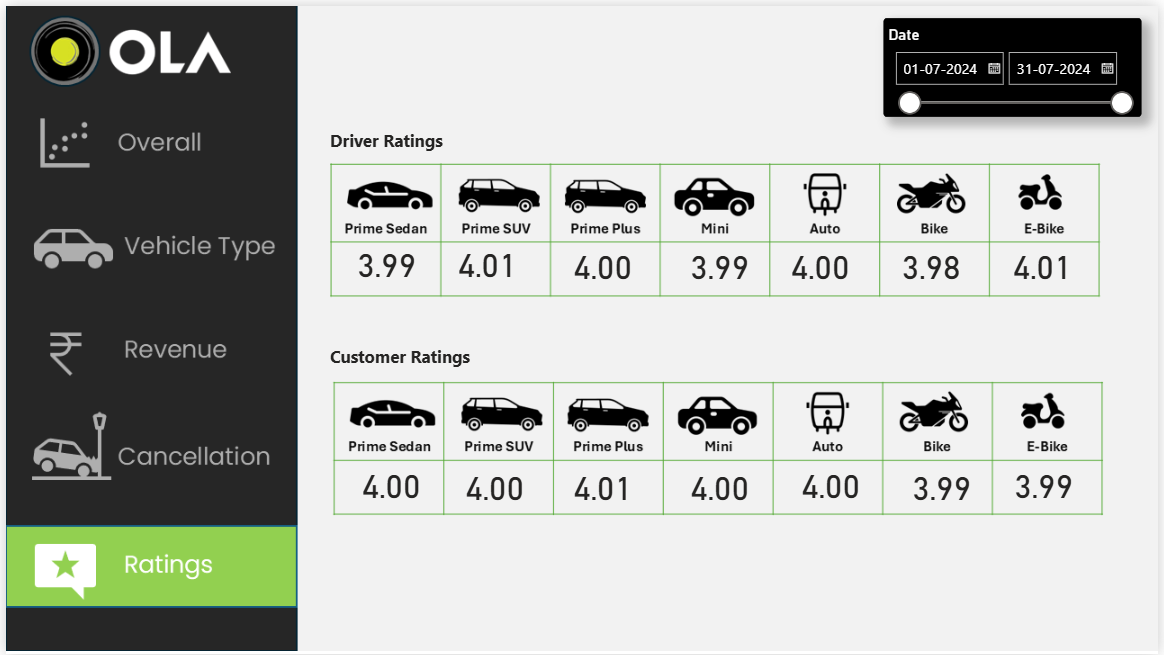

The dashboard page shown, as its layout file describes it:
{"tool":"powerbi","page":{"name":"Ratings","canvas":[1280,720],"ordinal":4},"visuals":[{"type":"actionButton","box":[0,448.7,325,90.6],"z":0},{"type":"actionButton","box":[0,222.9,325,90.6],"z":1000},{"type":"actionButton","box":[0,345.1,325,90.6],"z":2000},{"type":"actionButton","box":[0,107.9,325,90.6],"z":3000},{"type":"card","fields":{"Values":["Avg(Bookings.Driver_Ratings)"]},"box":[366.7,256.7,111.7,56.7],"z":3001},{"type":"card","fields":{"Values":["Avg(Bookings.Driver_Ratings)"]},"box":[478.3,256.7,111.7,56.7],"z":3002},{"type":"card","fields":{"Values":["Avg(Bookings.Driver_Ratings)"]},"box":[606.7,258.3,111.7,56.7],"z":3003},{"type":"card","fields":{"Values":["Avg(Bookings.Driver_Ratings)"]},"box":[736.7,258.3,111.7,56.7],"z":3004},{"type":"card","fields":{"Values":["Avg(Bookings.Driver_Ratings)"]},"box":[848.3,258.3,111.7,56.7],"z":3005},{"type":"card","fields":{"Values":["Avg(Bookings.Driver_Ratings)"]},"box":[971.7,258.3,111.7,56.7],"z":3006},{"type":"card","fields":{"Values":["Avg(Bookings.Driver_Ratings)"]},"box":[1095,258.3,111.7,56.7],"z":3007},{"type":"textbox","box":[355,131.7,146.7,35],"z":3008},{"type":"textbox","box":[355,371.7,186.7,38.3],"z":3009},{"type":"card","fields":{"Values":["Avg(Bookings.Customer_Rating)"]},"box":[371.7,493.3,111.7,75],"z":3010},{"type":"card","fields":{"Values":["Avg(Bookings.Customer_Rating)"]},"box":[486.7,495,111.7,75],"z":3011},{"type":"card","fields":{"Values":["Avg(Bookings.Customer_Rating)"]},"box":[606.7,495,111.7,75],"z":3012},{"type":"card","fields":{"Values":["Avg(Bookings.Customer_Rating)"]},"box":[736.7,495,111.7,75],"z":3013},{"type":"card","fields":{"Values":["Avg(Bookings.Customer_Rating)"]},"box":[860,493.3,111.7,75],"z":3014},{"type":"card","fields":{"Values":["Avg(Bookings.Customer_Rating)"]},"box":[983.3,495,111.7,75],"z":3015},{"type":"card","fields":{"Values":["Avg(Bookings.Customer_Rating)"]},"box":[1096.7,493.3,111.7,75],"z":3016},{"type":"slicer","title":"Date","fields":{"Values":["Bookings.Date"]},"box":[975,13.3,286.7,110],"z":3017}]}

Visuals, with their boxes in screenshot pixels (x1, y1, x2, y2), scaled from the page's 1280x720 canvas onto the 1164x655 screenshot:
actionButton: rect(0, 408, 296, 491)
actionButton: rect(0, 203, 296, 285)
actionButton: rect(0, 314, 296, 396)
actionButton: rect(0, 98, 296, 181)
card - Avg(Bookings.Driver_Ratings): rect(333, 234, 435, 285)
card - Avg(Bookings.Driver_Ratings): rect(435, 234, 537, 285)
card - Avg(Bookings.Driver_Ratings): rect(552, 235, 653, 287)
card - Avg(Bookings.Driver_Ratings): rect(670, 235, 772, 287)
card - Avg(Bookings.Driver_Ratings): rect(771, 235, 873, 287)
card - Avg(Bookings.Driver_Ratings): rect(884, 235, 985, 287)
card - Avg(Bookings.Driver_Ratings): rect(996, 235, 1097, 287)
textbox: rect(323, 120, 456, 152)
textbox: rect(323, 338, 493, 373)
card - Avg(Bookings.Customer_Rating): rect(338, 449, 440, 517)
card - Avg(Bookings.Customer_Rating): rect(443, 450, 544, 519)
card - Avg(Bookings.Customer_Rating): rect(552, 450, 653, 519)
card - Avg(Bookings.Customer_Rating): rect(670, 450, 772, 519)
card - Avg(Bookings.Customer_Rating): rect(782, 449, 884, 517)
card - Avg(Bookings.Customer_Rating): rect(894, 450, 996, 519)
card - Avg(Bookings.Customer_Rating): rect(997, 449, 1099, 517)
"Date" slicer: rect(887, 12, 1147, 112)
